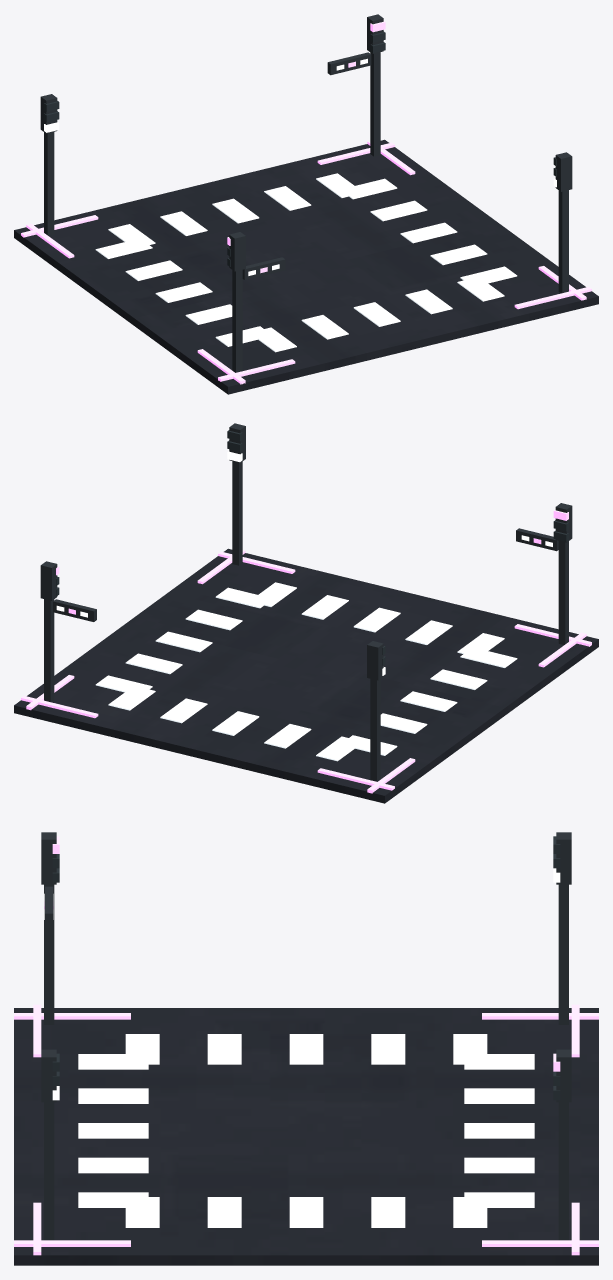
Rendered from decor-road-cross.glb.
3 renders of one model, top to bottom at view 1: azimuth 30°, elevation 25°; view 2: azimuth 150°, elevation 25°; view 3: azimuth 270°, elevation 25°, orthographic. The views are drawn at different scales.
Parts seen in each view (by area): view 1: DecorRoadCross; view 2: DecorRoadCross; view 3: DecorRoadCross.
Boxes of the visible parts, bbox=[...] form: DecorRoadCross: bbox=[14, 14, 598, 394]; DecorRoadCross: bbox=[14, 423, 598, 803]; DecorRoadCross: bbox=[14, 832, 598, 1265].
Size of the model in its own units: 1 by 0.3725 by 1.
Materials: 7 (1 with a texture image).
